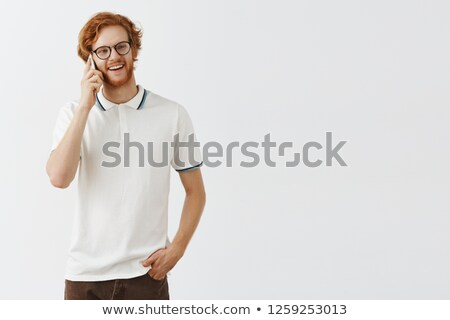phone: (78, 52, 106, 92)
talk: (71, 39, 140, 104)
